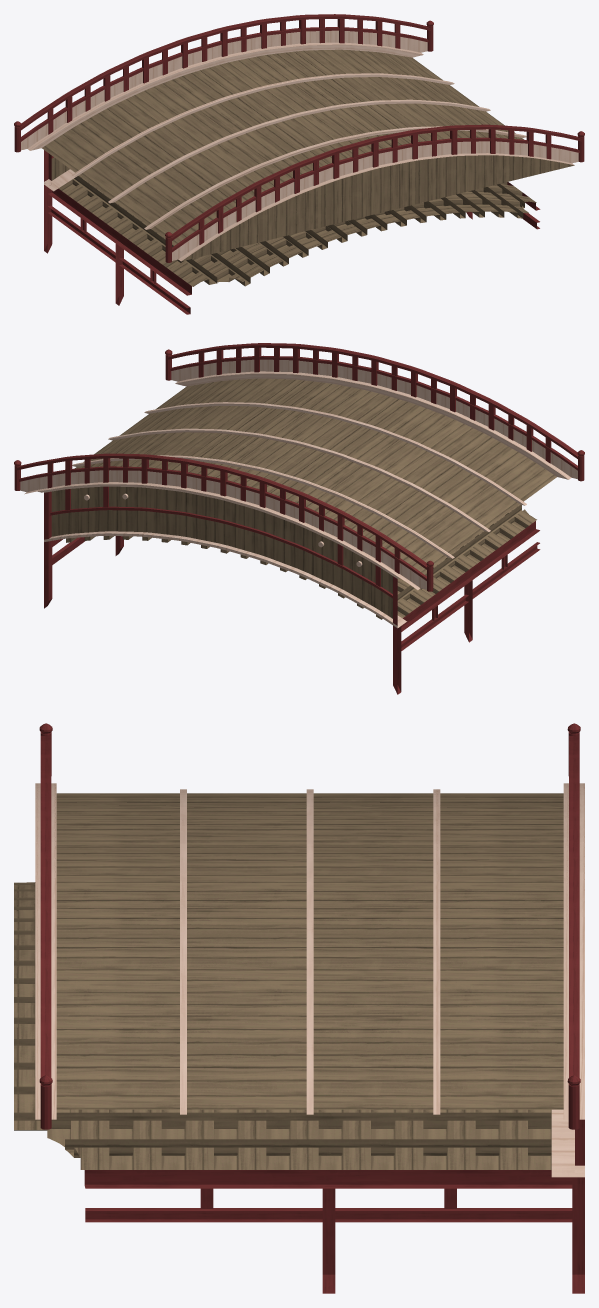
The model's file is SM_ENV_KNVLLG_AreaH_Building_A_2.mo.fbx.
The picture shows the model from 3 angles, top to bottom: view 1: azimuth 30°, elevation 25°; view 2: azimuth 150°, elevation 25°; view 3: azimuth 270°, elevation 25°; orthographic projection. The views are drawn at different scales.
Visible parts, largest first — view 1: SM_ENV_KNVLLG_AreaH_Building_A_2.mo; view 2: SM_ENV_KNVLLG_AreaH_Building_A_2.mo; view 3: SM_ENV_KNVLLG_AreaH_Building_A_2.mo.
Part boxes in pixels (x1,y1,x2,y2): SM_ENV_KNVLLG_AreaH_Building_A_2.mo: [14, 14, 584, 314]; SM_ENV_KNVLLG_AreaH_Building_A_2.mo: [14, 343, 584, 694]; SM_ENV_KNVLLG_AreaH_Building_A_2.mo: [14, 723, 584, 1293].
Size of the model in its own units: 17.77 by 7.36 by 12.
